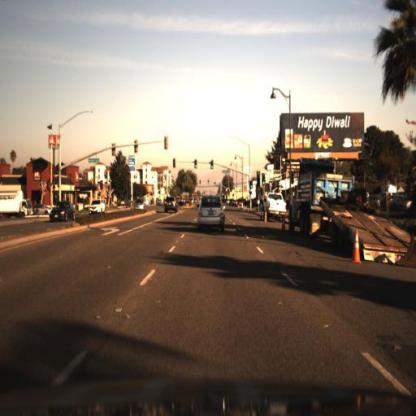car: (288, 153, 415, 266), (196, 192, 228, 233), (260, 188, 290, 223), (262, 189, 287, 224), (48, 200, 77, 224), (87, 198, 109, 218), (27, 202, 52, 218), (163, 193, 179, 214), (134, 195, 149, 215), (89, 197, 104, 216), (131, 199, 146, 214)
trafficLight-Green: (210, 158, 217, 172), (260, 174, 265, 190), (195, 159, 200, 174), (246, 180, 252, 192)
truck: (288, 153, 369, 244), (1, 184, 33, 222)
